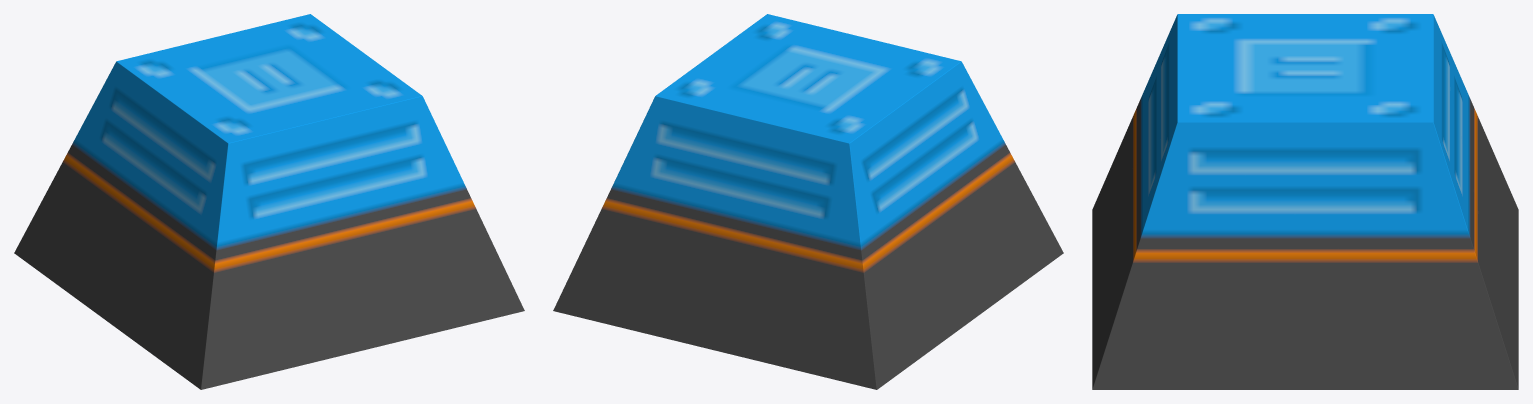
The model's file is radar1.obj.
3 renders of one model, left to right at view 1: azimuth 30°, elevation 25°; view 2: azimuth 150°, elevation 25°; view 3: azimuth 270°, elevation 25°, orthographic. The views are drawn at different scales.
Parts seen in each view (by area): view 1: ColobotMesh_1_ColobotMesh_; view 2: ColobotMesh_1_ColobotMesh_; view 3: ColobotMesh_1_ColobotMesh_.
Part boxes in pixels (box(x1,y1,x2,y2)): ColobotMesh_1_ColobotMesh_: box(14, 14, 524, 389); ColobotMesh_1_ColobotMesh_: box(553, 14, 1063, 389); ColobotMesh_1_ColobotMesh_: box(1092, 14, 1518, 389).
Bounding box in the file's own units: 10 × 6 × 10.
